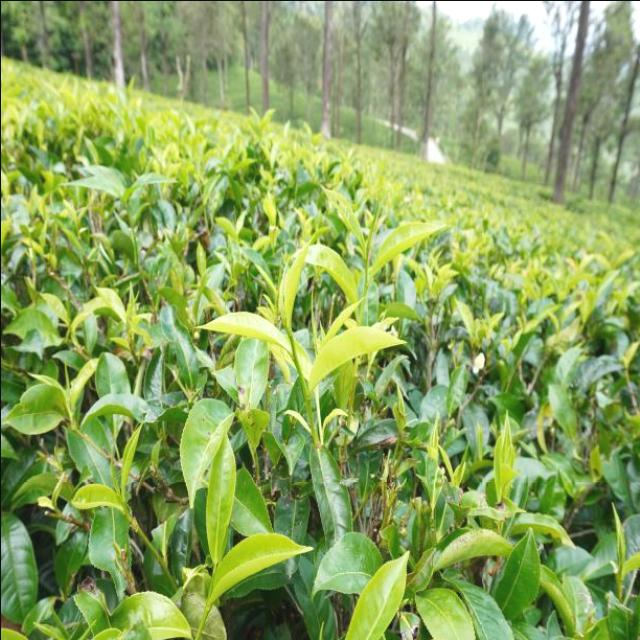Stem: (288, 335, 292, 338)
